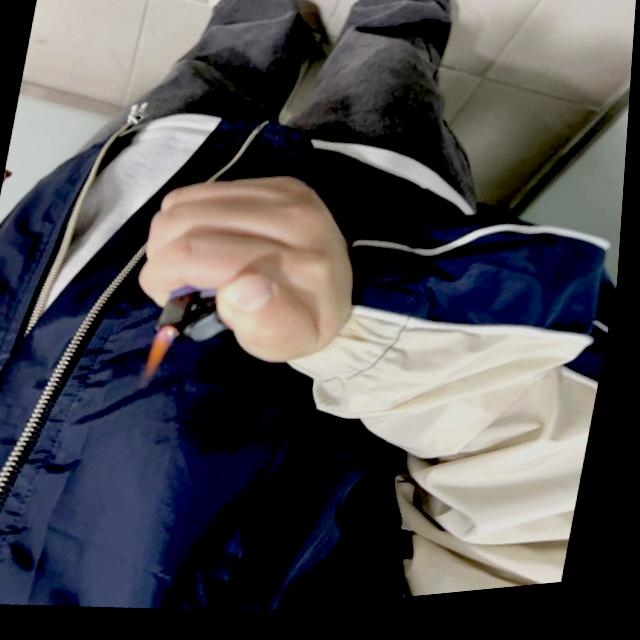helmet: (145, 324, 181, 389)
